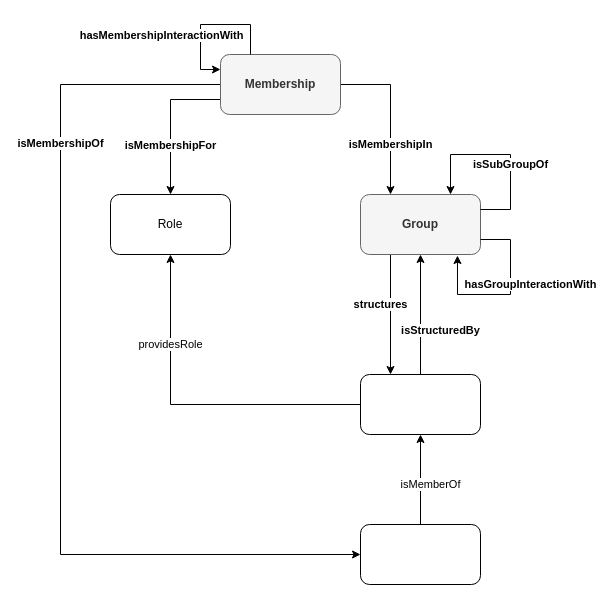
Some shapes in this 613 by 602 pixel diagram are drawn without their labels. Each missing label, with the centre of its shape:
"Agent" belongs at point (420, 554).
"Organization" belongs at point (420, 404).
